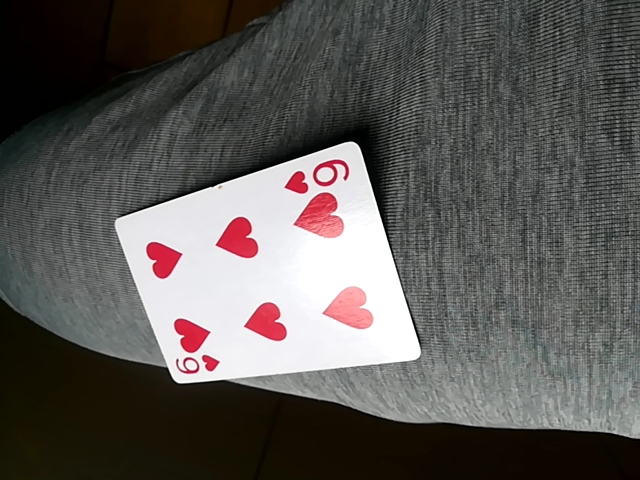hx 6: (115, 142, 424, 390)
